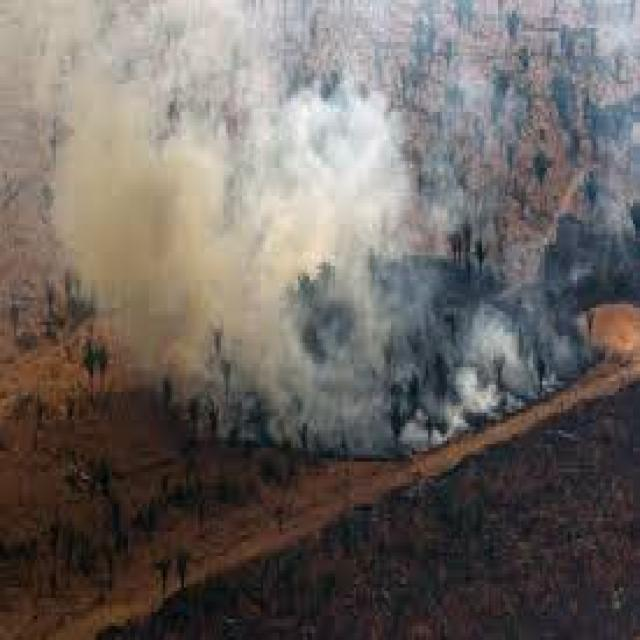Smoke: (71, 102, 498, 441)
